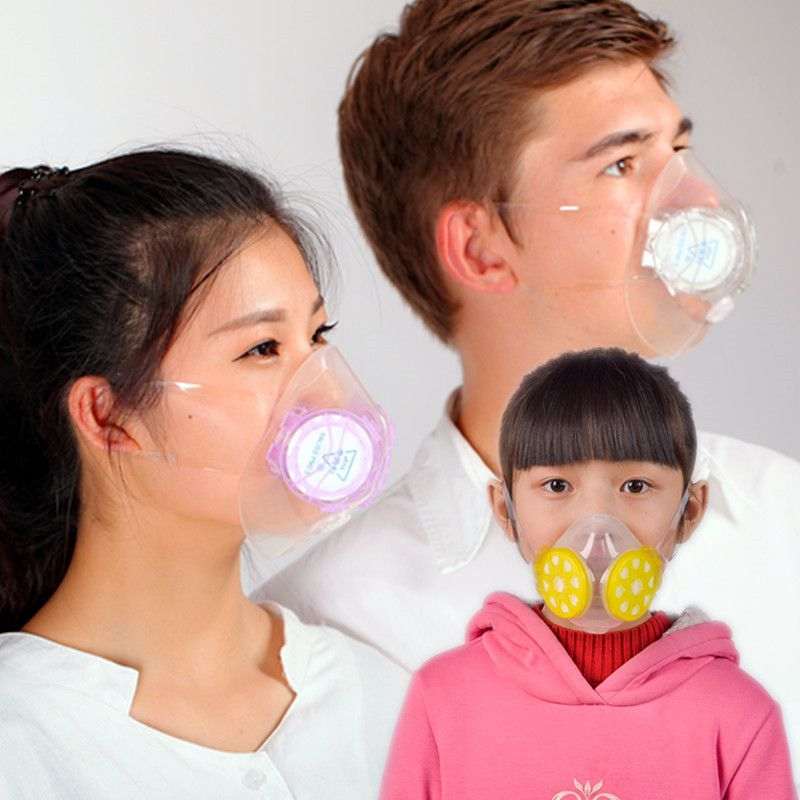face_mask: (504, 53, 721, 353), (135, 224, 342, 527), (511, 411, 680, 622)
